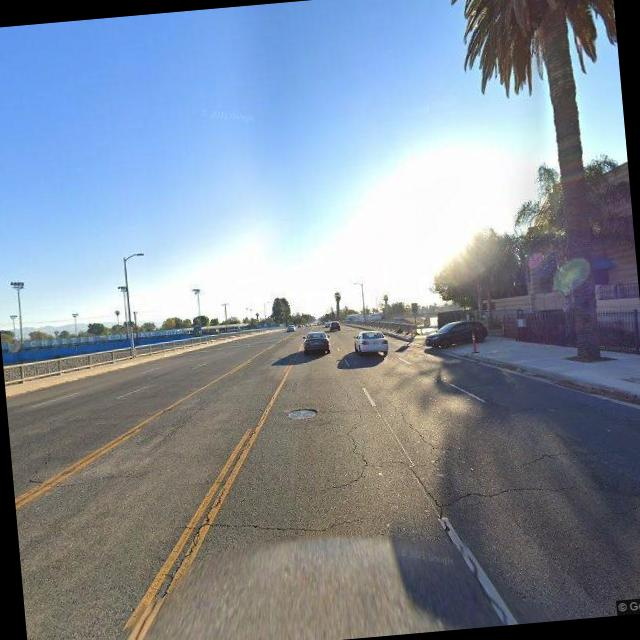crack: (112, 481, 242, 640), (197, 504, 360, 542), (436, 474, 576, 508), (380, 391, 444, 462), (335, 384, 371, 480), (512, 444, 586, 468)
